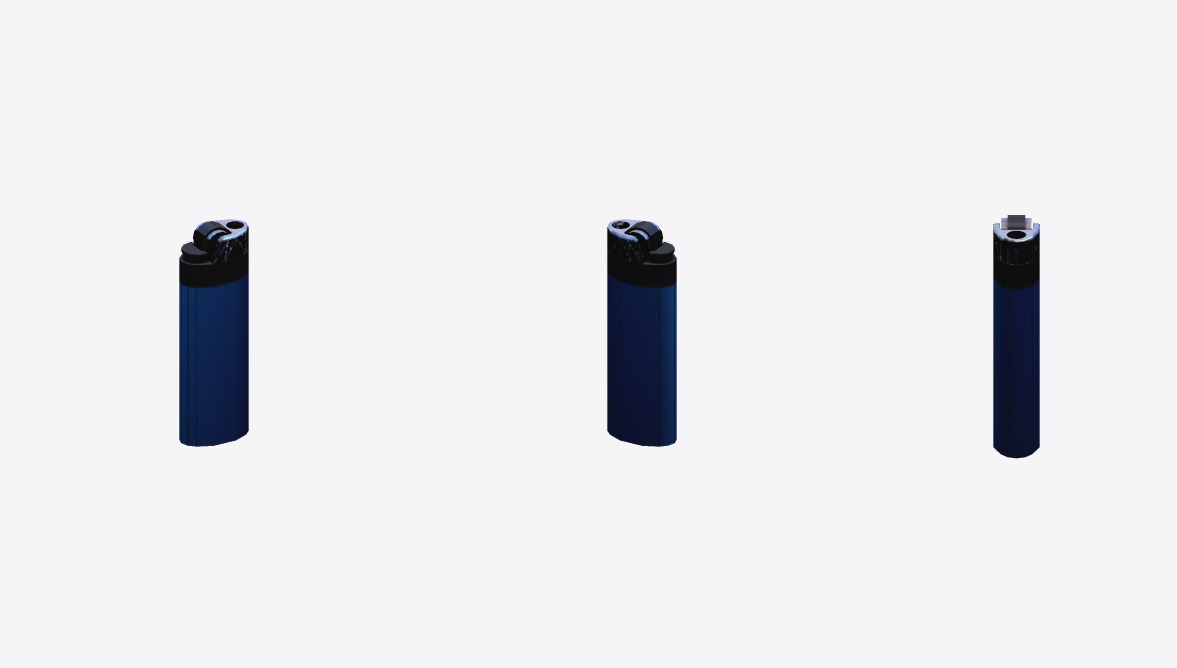
File: lighter.glb
3 views of the same model, side by side, from view 1: azimuth 30°, elevation 25°; view 2: azimuth 150°, elevation 25°; view 3: azimuth 270°, elevation 25° (orthographic). The views are drawn at different scales.
Visible parts, largest first — view 1: lighter; view 2: lighter; view 3: lighter.
Part boxes in pixels (x1,y1,x2,y2): lighter: [179, 219, 248, 446]; lighter: [607, 219, 676, 446]; lighter: [993, 215, 1039, 458].
Size of the model in its own units: 0.052 by 0.0902 by 0.0475.
2 materials, 1 textured.
